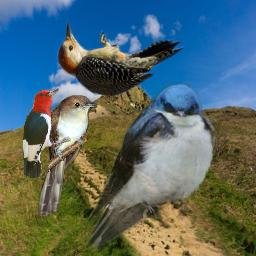Cuckoo: (38, 94, 97, 216)
Swallow: (81, 82, 217, 251)
Woodpecker: (47, 17, 190, 98), (22, 88, 71, 178)
